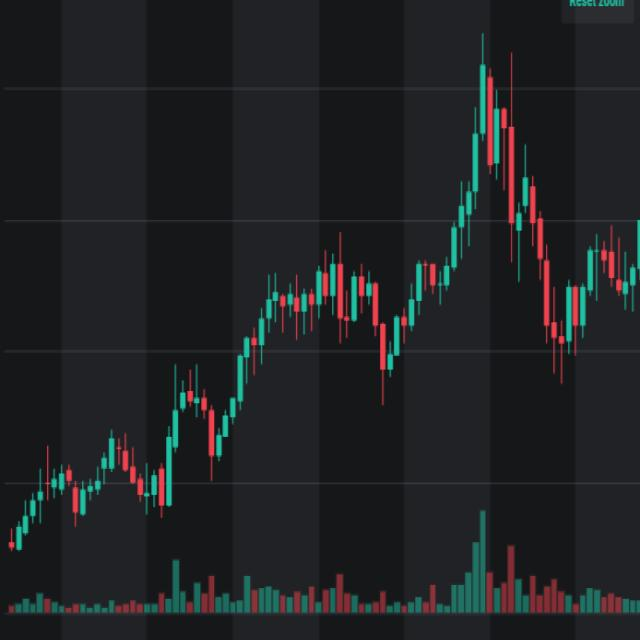Head-Shoulders: (217, 37, 636, 414)
